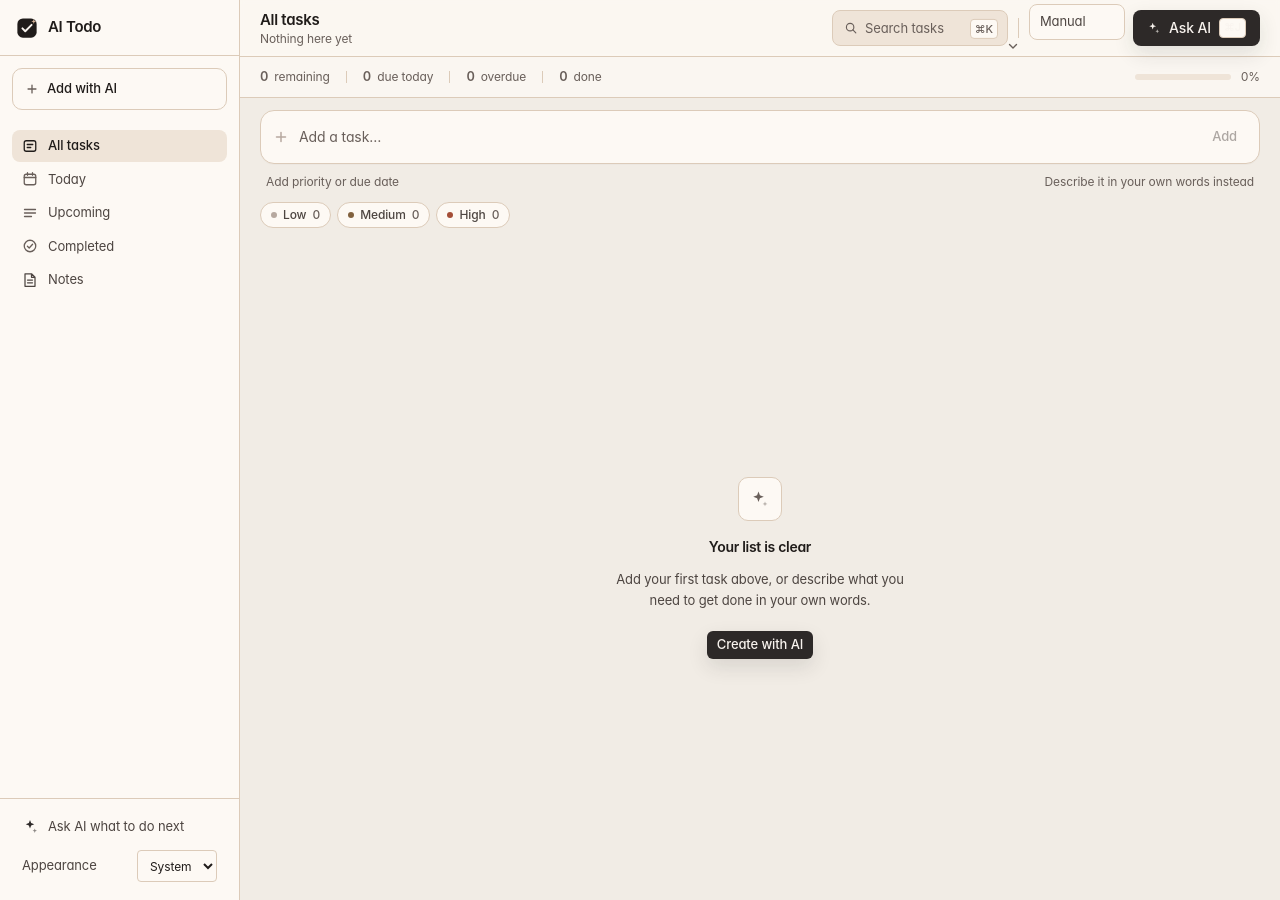
personal notes › opens the Notes workspace from the sidebar
Step 1. Click the button "Notes" → (120, 280), box x1=12 y1=264 x2=227 y2=296
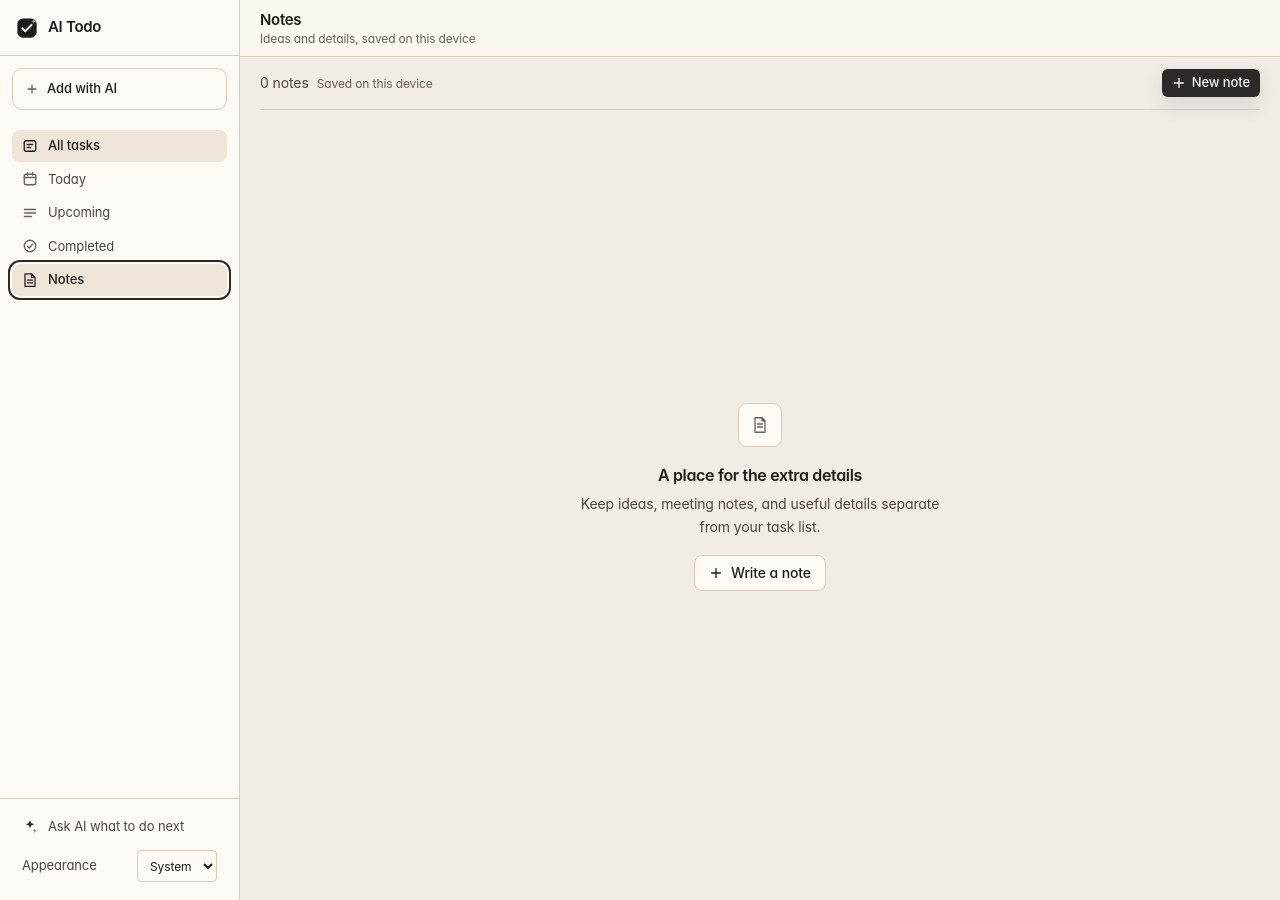
Now the heading "Notes" is shown, box x1=260 y1=10 x2=301 y2=29
Now the heading "A place for the extra details" is shown, box x1=658 y1=465 x2=862 y2=485
